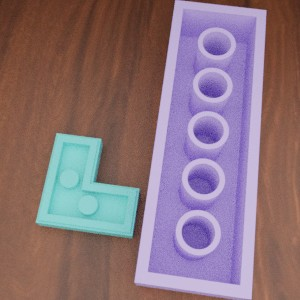lego: (134, 0, 266, 300), (35, 133, 139, 238)
